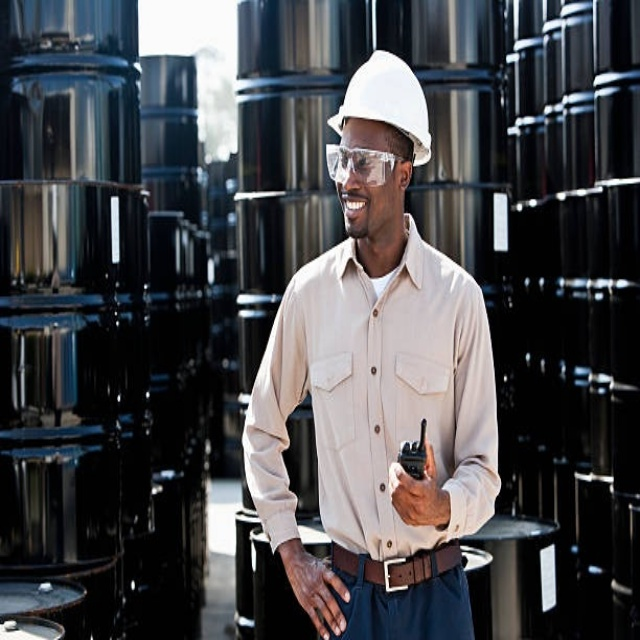Gafas: (326, 145, 405, 187)
Sin_guantes: (282, 545, 351, 639), (388, 433, 448, 530)
Sin_mascara: (338, 191, 370, 232)
